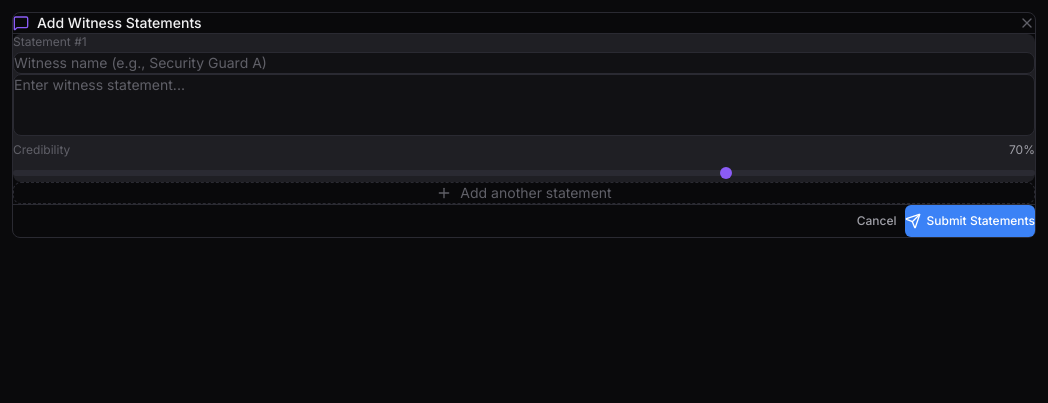
Scenario: WitnessForm › allows adding more statements
The image size is (1048, 403).
Click the button "Add another statement". click: (524, 193)
box: [13,182,1035,204]
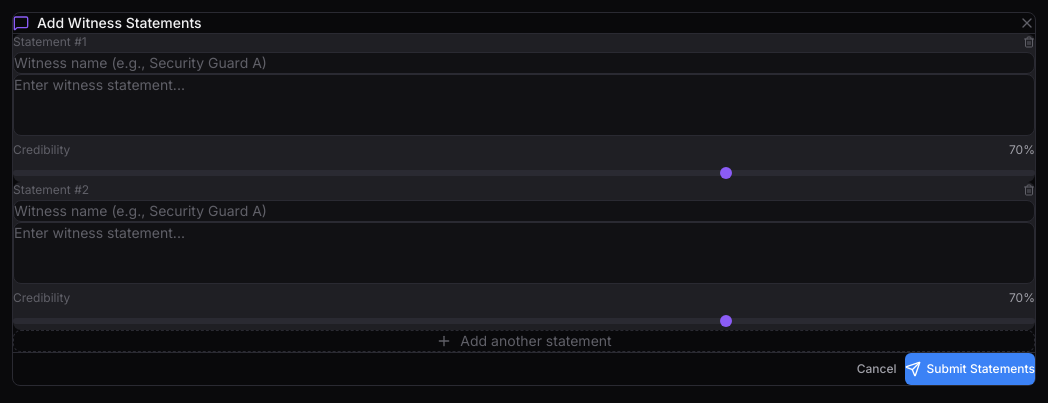
Expected: the text "Statement #1" is shown, [13,34,87,50]
Expected: the text "Statement #2" is shown, [13,182,89,198]
